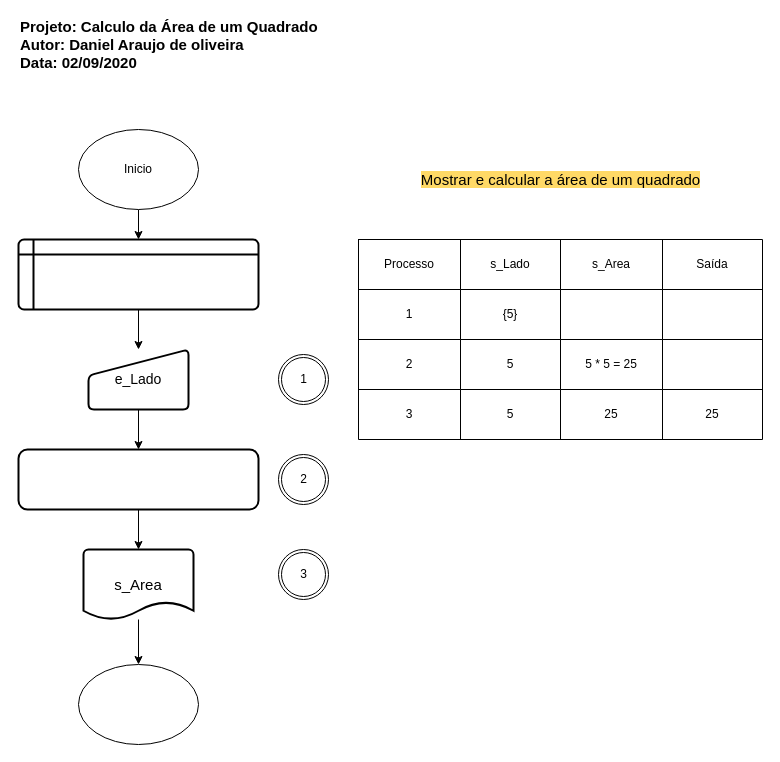
Image size: 780x762. Some labels were removed from this diagram. Here are the shapes that lost their labels. From the top down, the centre of each, then its label:
At [138,274]: "e_Lado, s_Area".
At [138,479]: "s_Area = lado * lado".
At [138,704]: "Fim".
